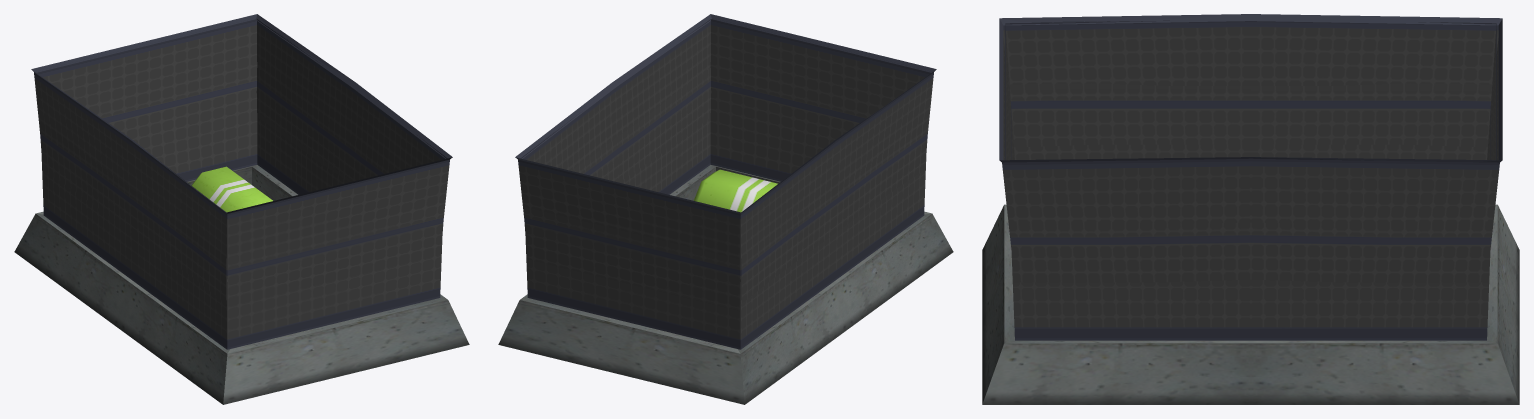
The model's file is Tank_Fence.fbx.
3 views of the same model, side by side, from view 1: azimuth 30°, elevation 25°; view 2: azimuth 150°, elevation 25°; view 3: azimuth 270°, elevation 25° (orthographic). The views are drawn at different scales.
Visible parts, largest first — view 1: Tank_Fence; view 2: Tank_Fence; view 3: Tank_Fence.
Part boxes in pixels (bbox=[...]): Tank_Fence: bbox=[14, 14, 469, 404]; Tank_Fence: bbox=[498, 14, 953, 404]; Tank_Fence: bbox=[982, 14, 1519, 404].
Bounding box in the file's own units: 35.73 × 26.06 × 52.44.
